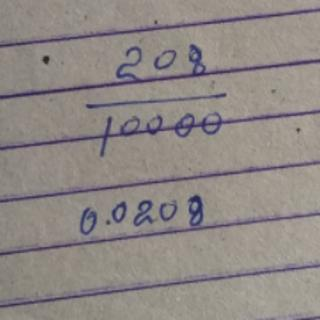.: (103, 218, 114, 230)
0: (154, 196, 179, 226), (174, 111, 196, 142), (153, 48, 178, 71), (79, 207, 96, 240), (195, 114, 220, 136), (119, 118, 141, 141), (146, 114, 166, 139), (114, 199, 127, 225)
1: (98, 114, 115, 157)
2: (116, 44, 145, 82), (132, 196, 157, 230)
8: (186, 44, 207, 77), (188, 196, 207, 227)
